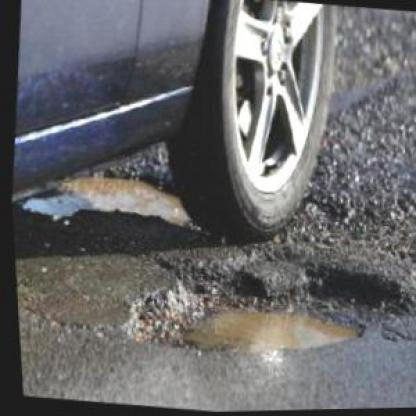pothole: (113, 241, 411, 380)
